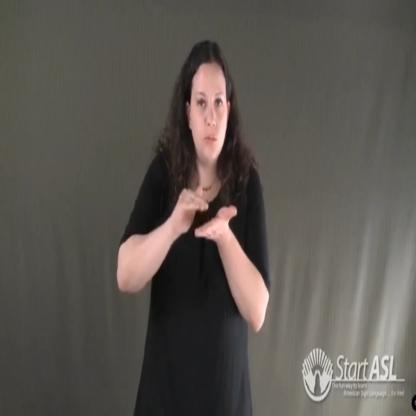ExcuseMe: (170, 170, 241, 252)
